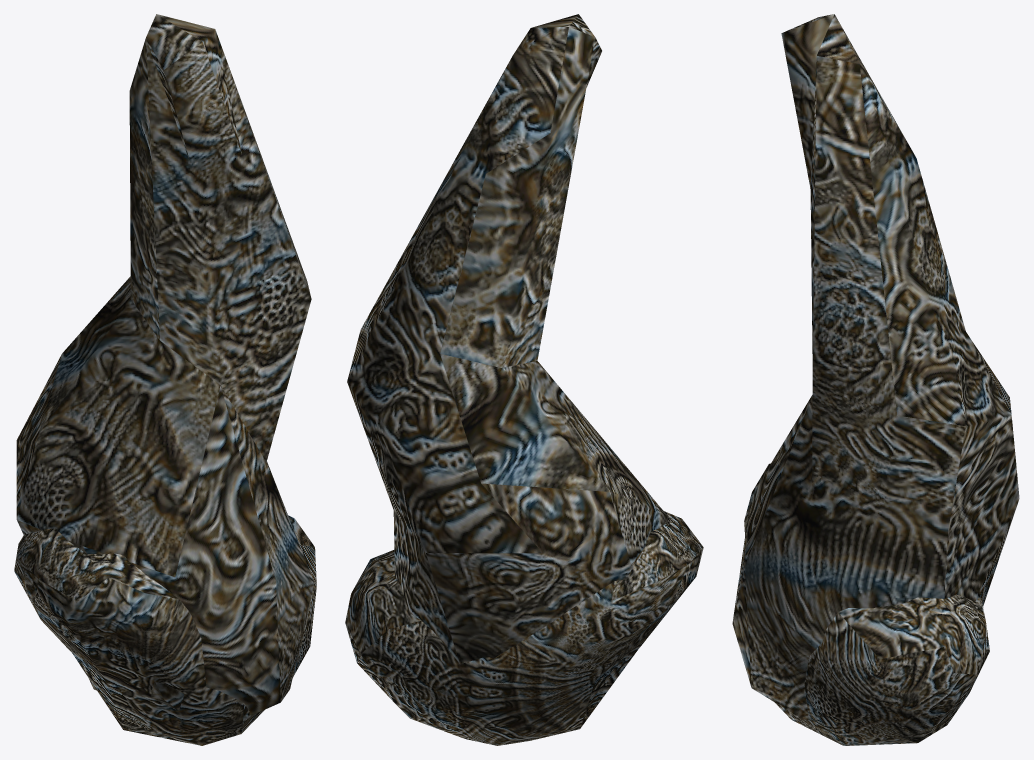
The model's file is testPlant.fbx.
3 renders of one model, left to right at view 1: azimuth 30°, elevation 25°; view 2: azimuth 150°, elevation 25°; view 3: azimuth 270°, elevation 25°, orthographic. The views are drawn at different scales.
Visible parts, largest first — view 1: Branch, Node; view 2: Branch, Node; view 3: Branch, Node.
Boxes of the visible parts, left/top/right/bottom form: Branch: left=16, top=14, right=314, bottom=715; Node: left=14, top=515, right=316, bottom=745; Branch: left=347, top=14, right=668, bottom=707; Node: left=345, top=511, right=703, bottom=745; Branch: left=732, top=14, right=1019, bottom=719; Node: left=744, top=463, right=989, bottom=745.
Size of the model in its own units: 329 by 760 by 285.
2 materials, 2 textured.
